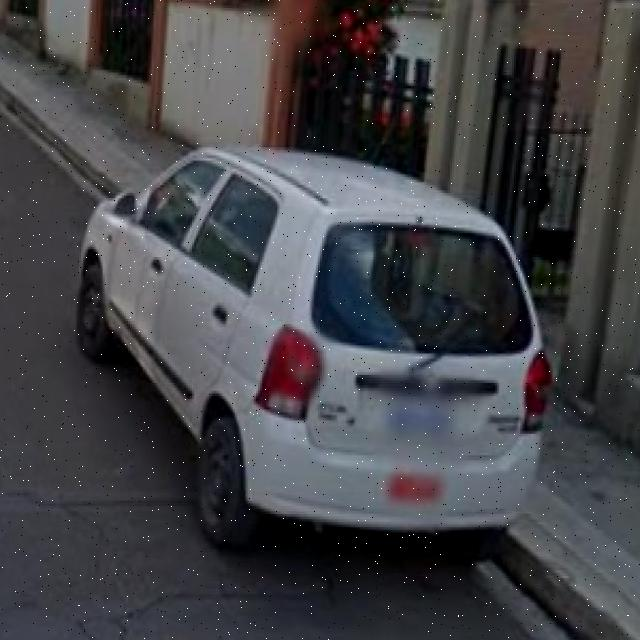car: (81, 153, 552, 582)
